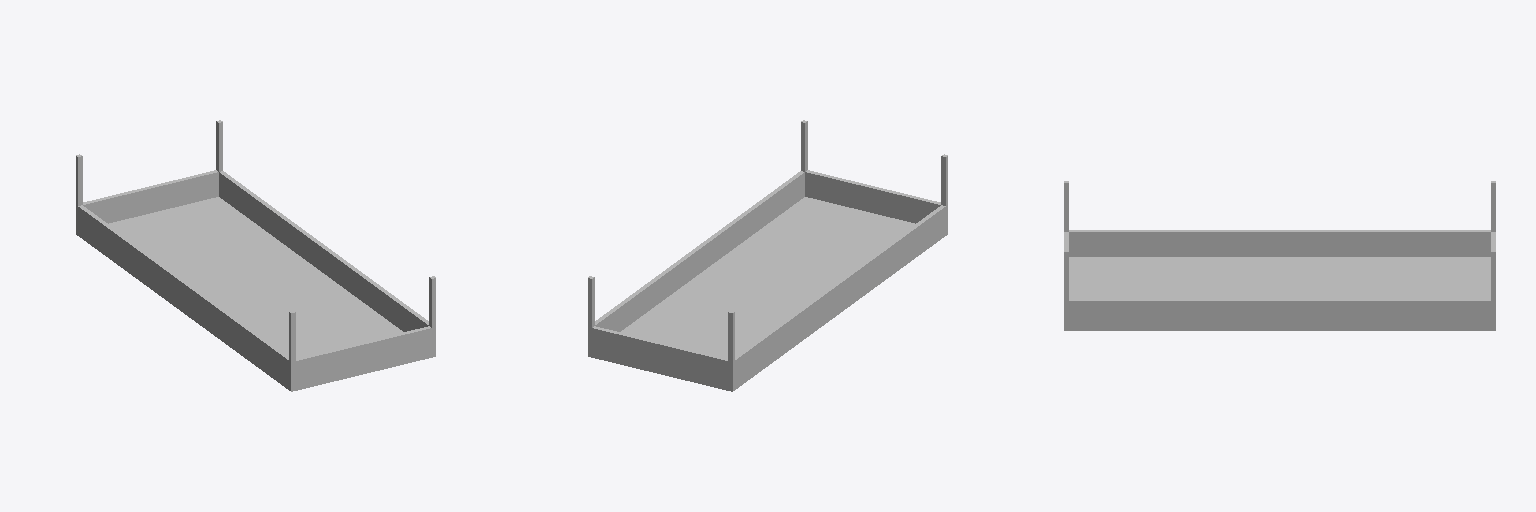
The model's file is board.obj.
3 views of the same model, side by side, from view 1: azimuth 30°, elevation 25°; view 2: azimuth 150°, elevation 25°; view 3: azimuth 270°, elevation 25° (orthographic).
Parts seen in each view (by area): view 1: Board_Cube; view 2: Board_Cube; view 3: Board_Cube.
Part boxes in pixels (x1,y1,x2,y2): Board_Cube: (76, 120, 435, 391); Board_Cube: (588, 120, 947, 391); Board_Cube: (1064, 181, 1495, 330).
Bounding box in the file's own units: 6.14 × 3.18 × 15.81.